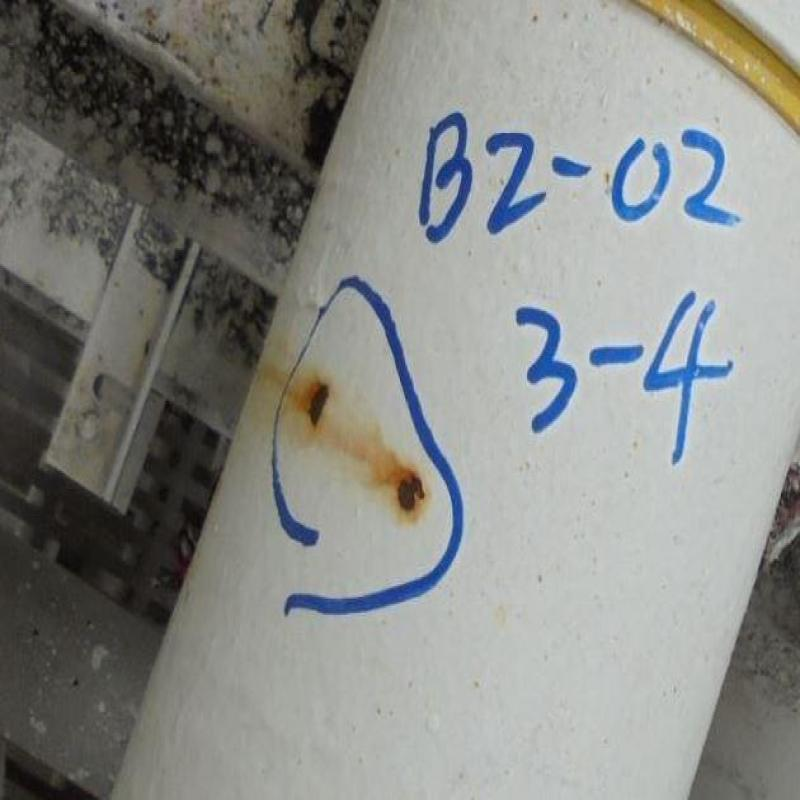corrosion: (391, 472, 432, 519), (302, 381, 334, 430)
